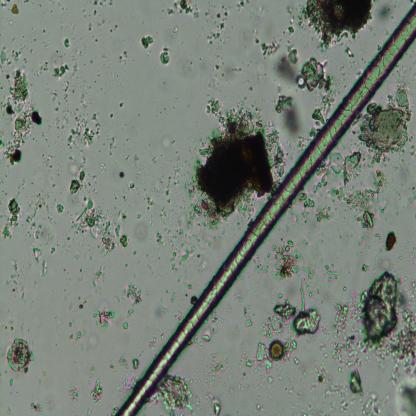Background material: (184, 96, 288, 226), (358, 85, 413, 173), (0, 69, 40, 168), (360, 265, 403, 357), (296, 0, 374, 45), (69, 198, 128, 256), (328, 289, 367, 368), (270, 294, 321, 339), (394, 314, 416, 414), (154, 372, 202, 416), (265, 236, 307, 286), (308, 361, 348, 413), (342, 184, 381, 234), (300, 57, 334, 106), (65, 109, 99, 156), (297, 186, 335, 224), (329, 148, 361, 192), (245, 336, 273, 385), (275, 92, 302, 140), (23, 192, 45, 241), (67, 162, 96, 197), (206, 1, 228, 43), (7, 340, 33, 375), (119, 279, 142, 316), (206, 350, 227, 390), (277, 45, 298, 85), (316, 261, 343, 292), (166, 0, 204, 22), (177, 195, 194, 239), (6, 262, 27, 297), (160, 206, 176, 243), (254, 37, 280, 59), (363, 388, 383, 415), (260, 314, 281, 338), (7, 194, 21, 228), (89, 370, 103, 404), (193, 226, 214, 248), (206, 391, 224, 416), (309, 101, 325, 128), (349, 366, 362, 398), (0, 45, 20, 65), (61, 76, 73, 108), (335, 60, 347, 92), (89, 310, 113, 326), (148, 328, 164, 350), (172, 150, 182, 184), (384, 229, 398, 253), (25, 400, 46, 416), (358, 235, 374, 256), (287, 338, 299, 365), (211, 58, 226, 78), (0, 222, 14, 243), (119, 379, 137, 395), (178, 247, 194, 265), (66, 383, 79, 404), (160, 133, 176, 150), (67, 329, 82, 346), (376, 2, 391, 19), (196, 251, 208, 272), (143, 190, 154, 212), (242, 306, 253, 328), (139, 35, 154, 51), (136, 222, 149, 240), (93, 268, 104, 289), (53, 64, 69, 78), (201, 326, 215, 342), (163, 174, 171, 202), (32, 243, 42, 265), (160, 44, 170, 66), (285, 4, 295, 25), (156, 301, 168, 318), (154, 227, 164, 247), (116, 48, 128, 64), (281, 25, 295, 38), (44, 151, 54, 169), (78, 92, 89, 108), (75, 296, 88, 309), (211, 313, 225, 324), (156, 176, 164, 195), (109, 135, 116, 156), (254, 261, 266, 273), (79, 80, 91, 92), (236, 0, 249, 11), (55, 116, 63, 132), (90, 0, 106, 8), (131, 358, 140, 372), (98, 162, 106, 176), (347, 47, 355, 61), (133, 154, 140, 170), (239, 352, 245, 370), (230, 66, 243, 74), (56, 201, 64, 214), (82, 3, 88, 20), (287, 384, 297, 394), (52, 89, 60, 101), (11, 4, 19, 16), (42, 60, 48, 76), (121, 320, 130, 330), (171, 242, 176, 260), (5, 376, 14, 386), (0, 0, 11, 8), (48, 243, 56, 254), (41, 260, 46, 277), (122, 359, 130, 369), (126, 183, 136, 191), (63, 37, 70, 48), (109, 359, 115, 371), (87, 24, 94, 34), (235, 219, 241, 230), (118, 169, 124, 180), (173, 25, 178, 38), (98, 18, 106, 26), (170, 263, 178, 271), (226, 303, 232, 313), (256, 405, 266, 411), (51, 0, 61, 6), (6, 404, 12, 414), (22, 57, 29, 65), (107, 112, 114, 120), (61, 22, 67, 31), (302, 368, 307, 378), (119, 98, 124, 108), (86, 408, 92, 416), (222, 228, 226, 240), (77, 274, 83, 282), (49, 180, 55, 188), (237, 382, 243, 390), (70, 21, 75, 30), (76, 50, 83, 56), (42, 42, 49, 48), (93, 35, 99, 42), (72, 51, 76, 61), (68, 320, 73, 328), (8, 18, 13, 26), (151, 155, 156, 163), (74, 65, 80, 71), (92, 10, 98, 16), (109, 28, 115, 34), (277, 375, 282, 382), (132, 248, 136, 256), (54, 106, 59, 112), (108, 0, 113, 6), (21, 44, 26, 50), (29, 49, 35, 54), (124, 262, 129, 268), (115, 23, 118, 31), (24, 0, 30, 4), (138, 212, 141, 220), (11, 38, 15, 44), (36, 2, 42, 6), (57, 55, 63, 59), (250, 86, 254, 92), (10, 326, 14, 331), (96, 73, 101, 77), (42, 29, 46, 34), (66, 236, 70, 241), (50, 8, 53, 14), (61, 6, 64, 12), (378, 43, 380, 51), (158, 255, 161, 260), (90, 60, 93, 64), (83, 62, 86, 66), (104, 63, 106, 68), (56, 49, 58, 54), (34, 39, 37, 42), (95, 80, 97, 83)
Diatom: (268, 340, 286, 362)
Hair: (118, 3, 416, 416)
